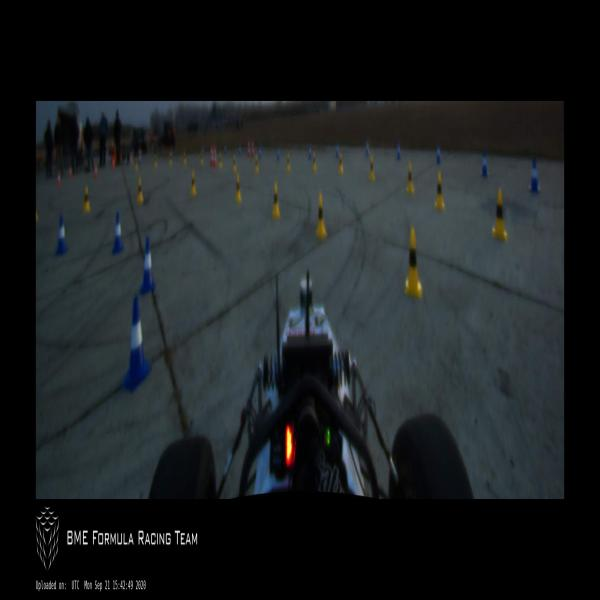blue_cone: (122, 297, 152, 392), (139, 236, 155, 293), (111, 212, 124, 255), (56, 215, 68, 255), (530, 157, 540, 194), (481, 148, 488, 176), (436, 141, 441, 164), (335, 142, 339, 157), (397, 142, 400, 160), (277, 144, 280, 161), (366, 140, 369, 156), (309, 143, 312, 159), (238, 146, 241, 155), (259, 146, 261, 158), (225, 144, 226, 154)
large_orange_cone: (212, 144, 216, 168), (247, 139, 251, 158), (251, 138, 254, 157), (210, 142, 212, 168)
orange_cone: (94, 162, 98, 179), (57, 171, 61, 186), (69, 164, 72, 179), (112, 156, 115, 170)
yellow_cone: (406, 227, 422, 297), (492, 188, 508, 241), (316, 195, 326, 236), (436, 173, 444, 208), (272, 184, 280, 217), (406, 162, 414, 194), (83, 184, 91, 214), (368, 154, 376, 179), (235, 176, 242, 202), (137, 178, 143, 202), (338, 153, 344, 174), (191, 172, 196, 196), (254, 155, 259, 175), (232, 155, 236, 172), (286, 154, 290, 170), (313, 152, 316, 172), (154, 156, 158, 169), (219, 153, 222, 168), (200, 151, 203, 164), (183, 151, 186, 164), (135, 157, 138, 170), (169, 154, 171, 164)
